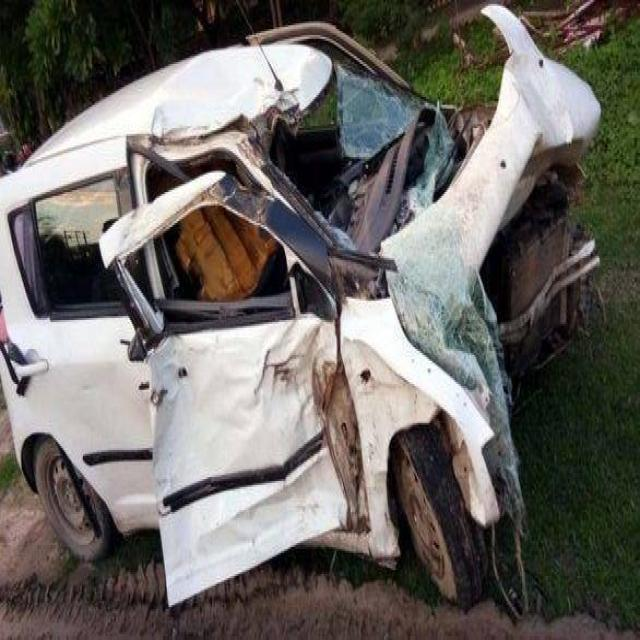accident: (0, 4, 599, 607)
